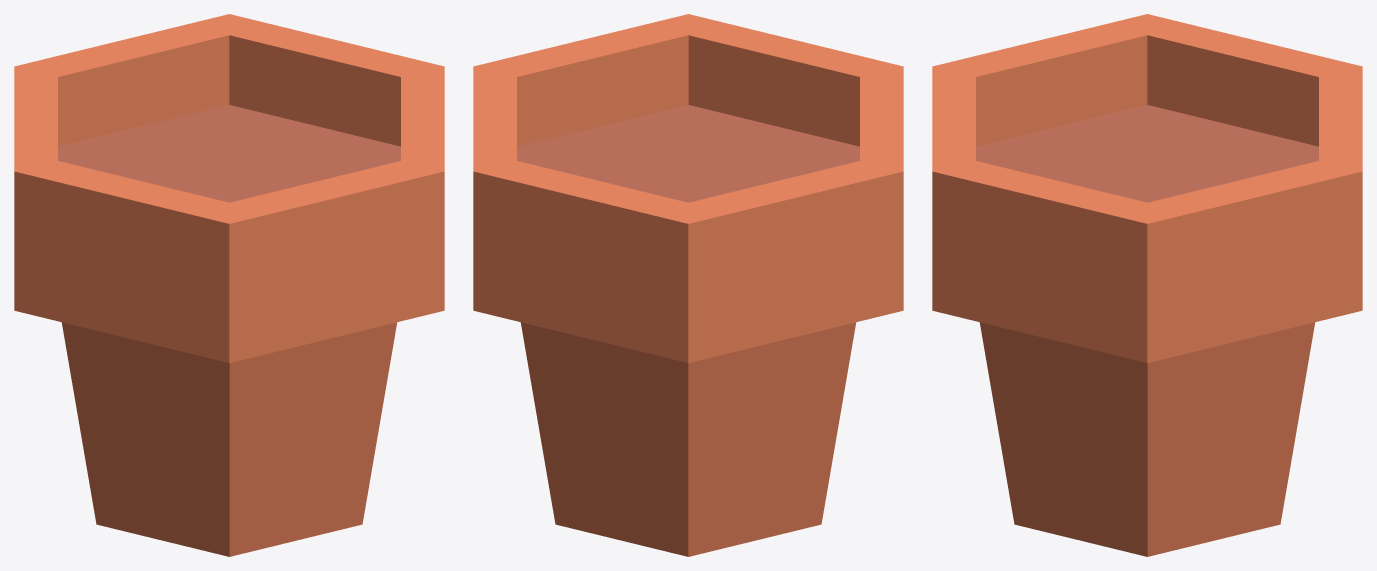
File: pot-small.glb
The picture shows the model from 3 angles, left to right: view 1: azimuth 30°, elevation 25°; view 2: azimuth 150°, elevation 25°; view 3: azimuth 270°, elevation 25°; orthographic projection.
Parts seen in each view (by area): view 1: pot_small; view 2: pot_small; view 3: pot_small.
Boxes of the visible parts, x1,y1,x2,y2 form: pot_small: (14, 14, 444, 556); pot_small: (473, 14, 903, 556); pot_small: (932, 14, 1362, 556).
Size of the model in its own units: 0.3234 by 0.268 by 0.2801.
